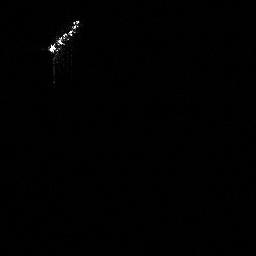ship: (43, 16, 83, 57)
